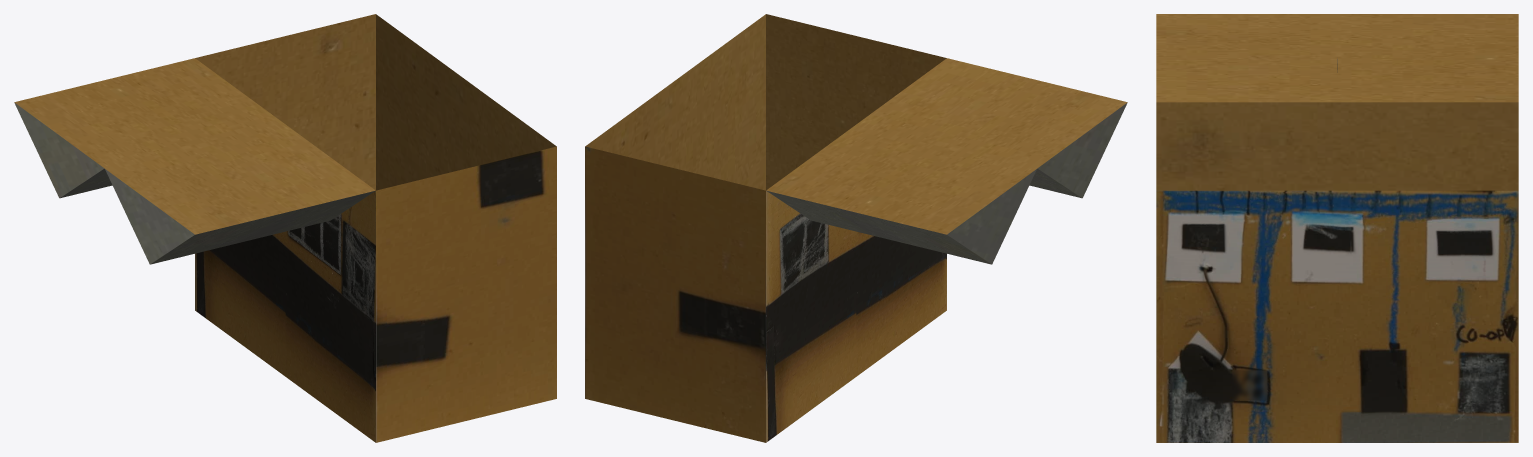
3 renders of one model, left to right at view 1: azimuth 30°, elevation 25°; view 2: azimuth 150°, elevation 25°; view 3: azimuth 270°, elevation 25°, orthographic.
Parts seen in each view (by area): view 1: Cube, Cube.002, Cube.003, Cube.001; view 2: Cube, Cube.002, Cube.003, Cube.001; view 3: Cube, Cube.002, Cube.003.
Boxes of the visible parts, x1=… form: Cube: x1=195, y1=146, x2=556, y2=442; Cube.002: x1=14, y1=58, x2=375, y2=234; Cube.003: x1=195, y1=14, x2=556, y2=190; Cube.001: x1=14, y1=102, x2=375, y2=264; Cube: x1=585, y1=146, x2=946, y2=442; Cube.002: x1=766, y1=58, x2=1127, y2=264; Cube.003: x1=585, y1=14, x2=946, y2=190; Cube.001: x1=947, y1=169, x2=1036, y2=264; Cube: x1=1156, y1=190, x2=1518, y2=442; Cube.002: x1=1156, y1=14, x2=1518, y2=102; Cube.003: x1=1156, y1=102, x2=1518, y2=190.
Bounding box in the file's own units: 15 × 10 × 13.
Materials: 1 (1 with a texture image).
